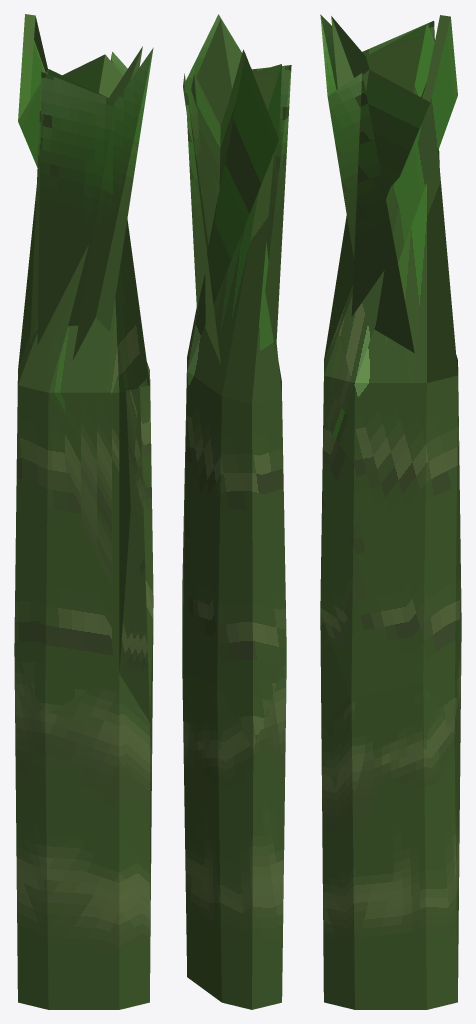
File: bamboo.obj
3 views of the same model, side by side, from view 1: azimuth 90°, elevation 25°; view 2: azimuth 210°, elevation 25°; view 3: azimuth 270°, elevation 25° (orthographic). The views are drawn at different scales.
Parts seen in each view (by area): view 1: fuck; view 2: fuck; view 3: fuck.
Part boxes in pixels (x1,y1,x2,y2): fuck: (14,14,153,1009); fuck: (182,14,291,1009); fuck: (320,14,461,1009).
Bounding box in the file's own units: 2.4 × 30.31 × 3.93.
1 material, 1 textured.
